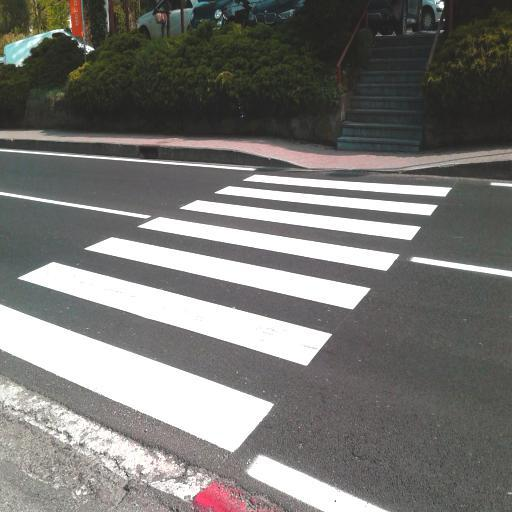crosswalk: (8, 235, 378, 372), (202, 169, 462, 220)
